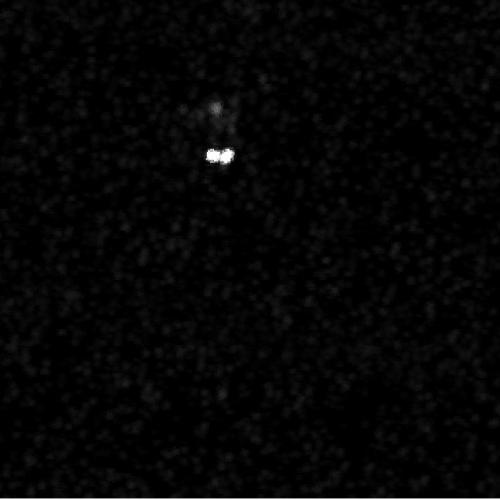ship: (205, 146, 235, 165)
